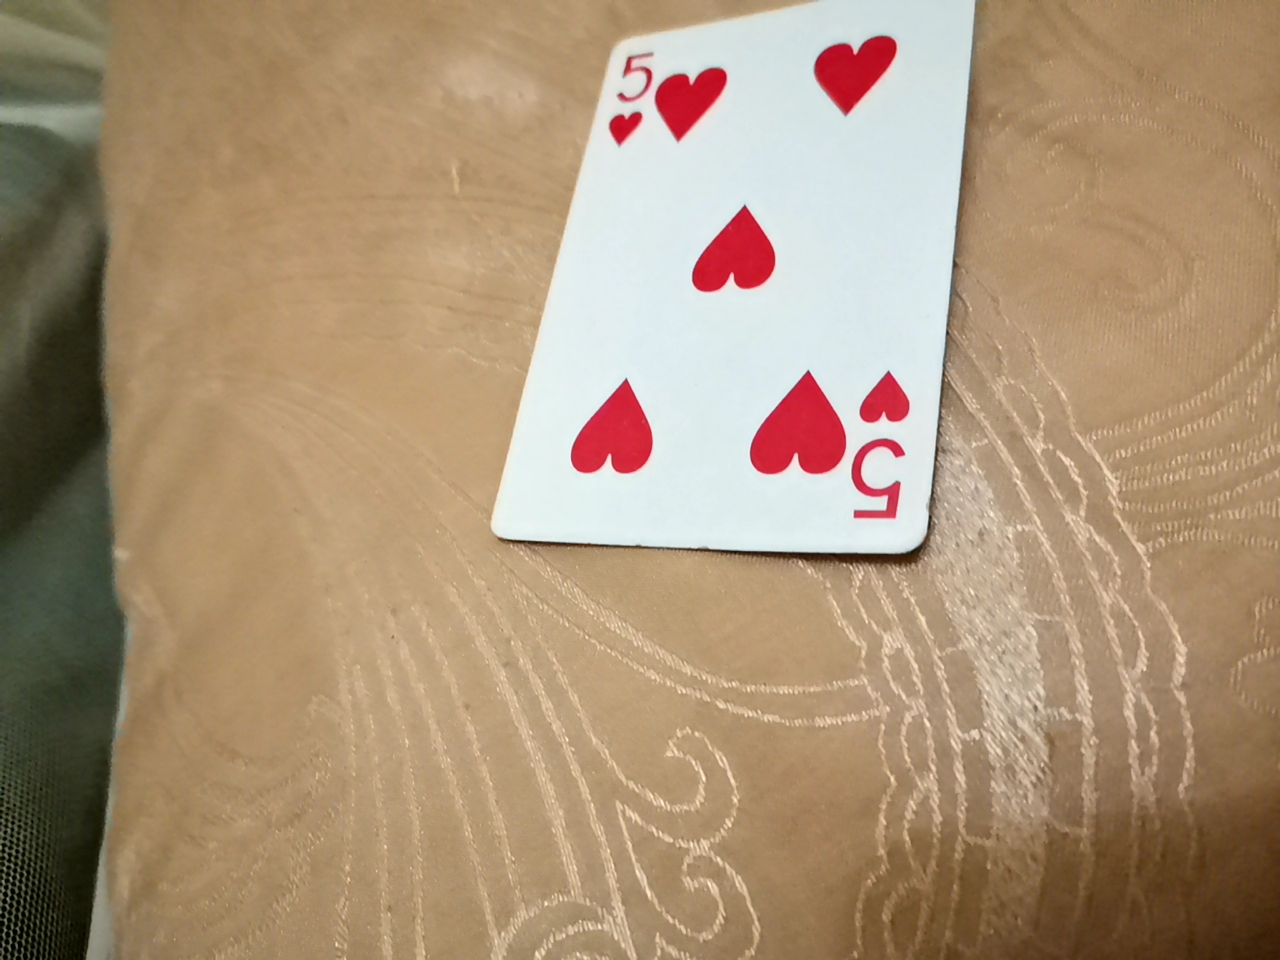hx 5: (505, 5, 961, 576)
